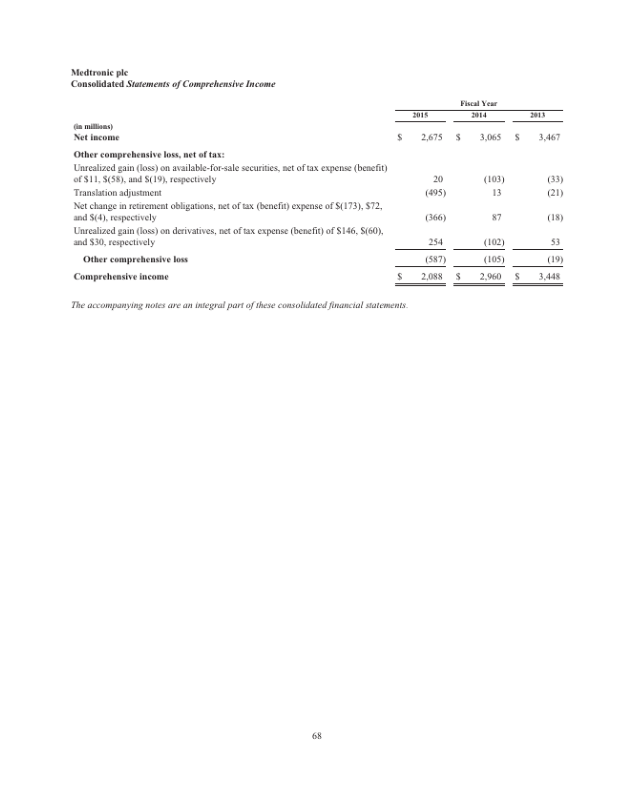table: (387, 97, 568, 289)
